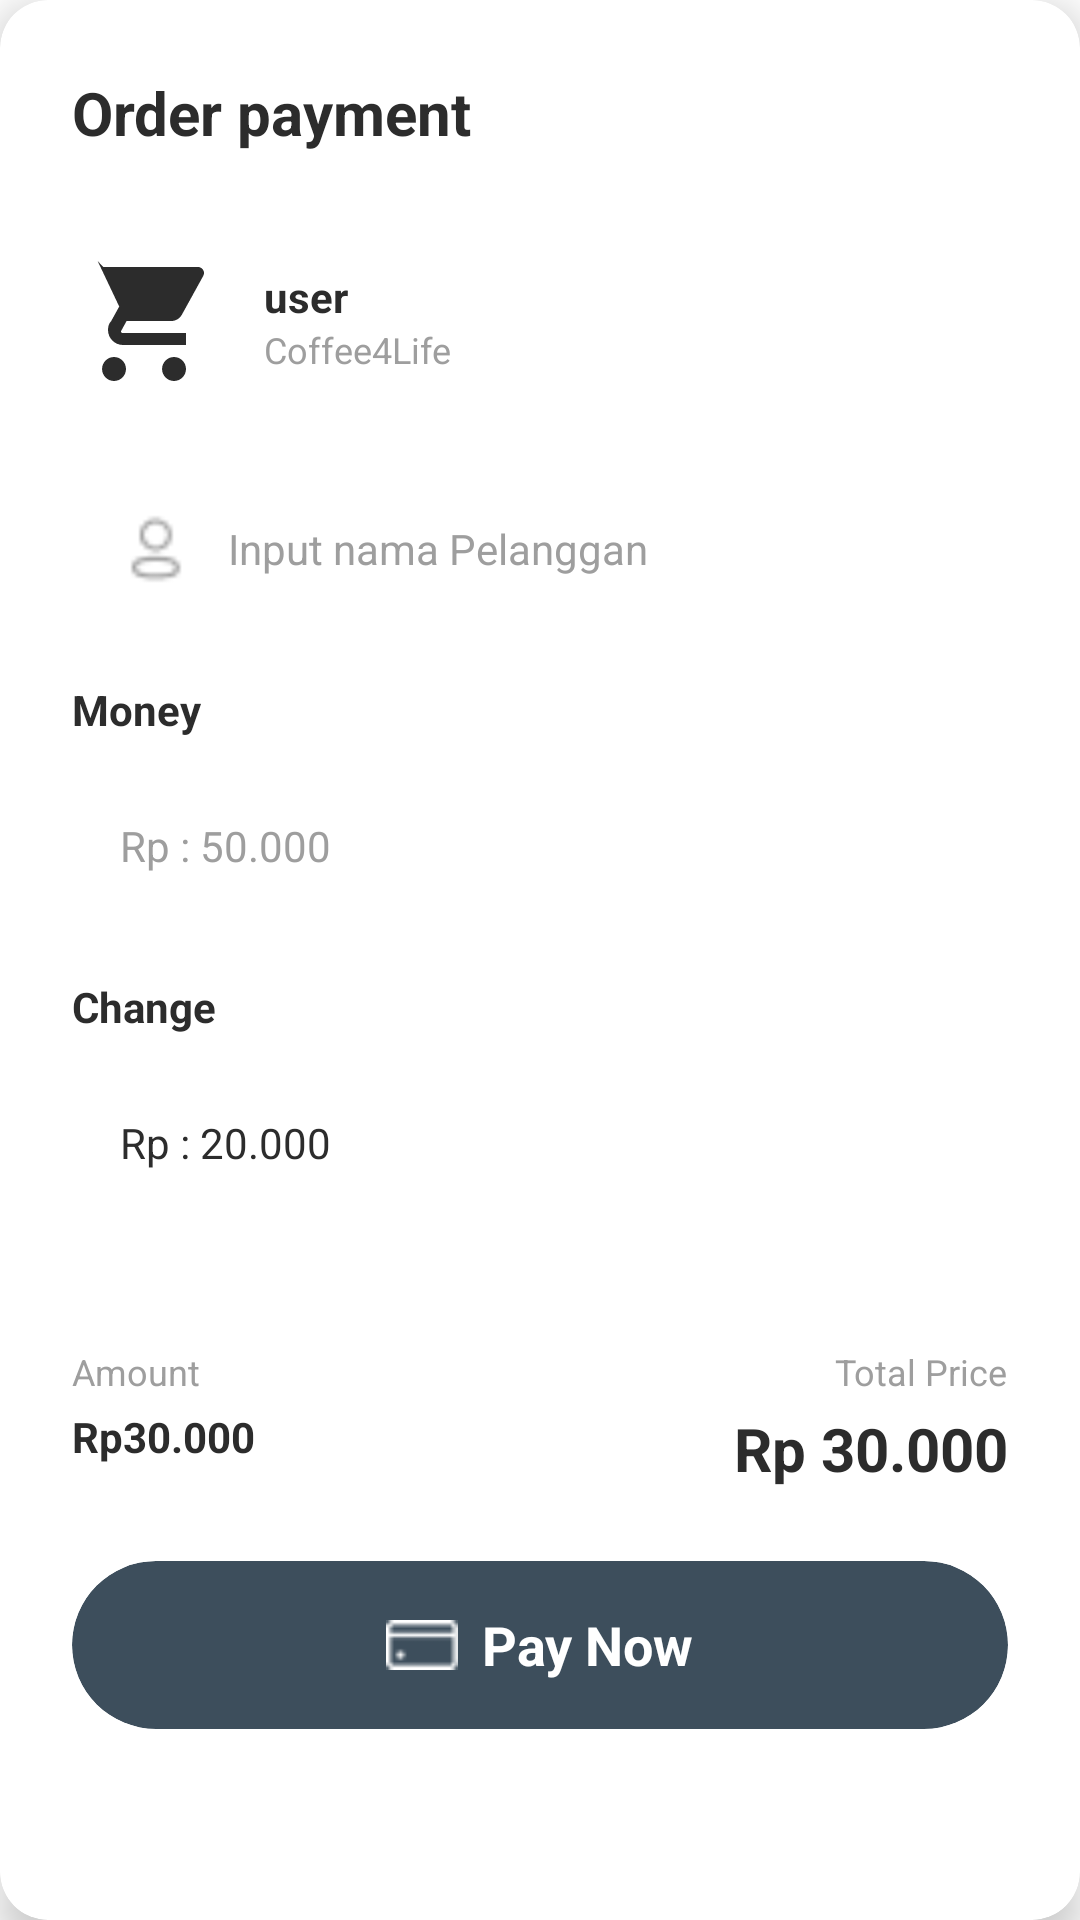

Named icons in this screenshot (1080px x 1920px) and their bounding boxes, (x1, y1, x2, y2):
Cart Icon: (98, 261, 204, 381)
Payment: (386, 1620, 458, 1670)
Person Icon: (131, 517, 181, 580)
